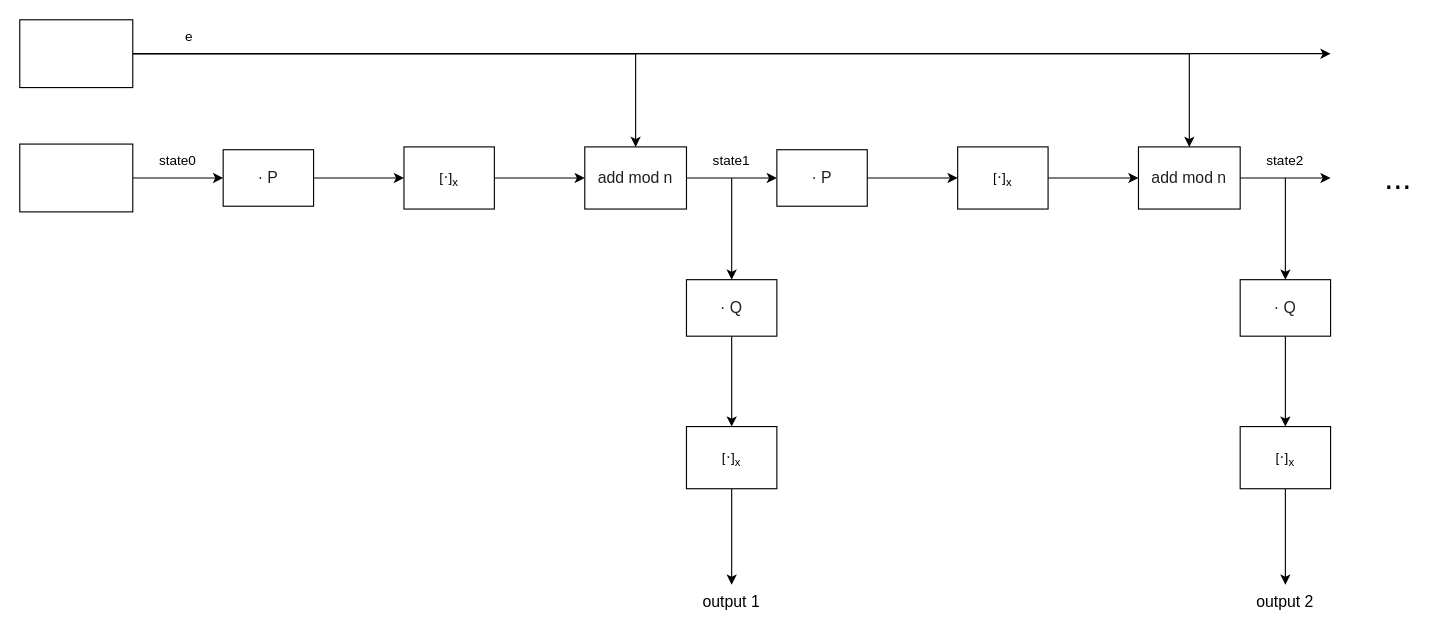
Image size: 1452x638. Some labels were removed from this diagram. The shapes that lost their labels are listed below. From the top down, each one's centre as x and y in pixels, then its label:
point (76, 53): Random number in [0, 2 20 )
point (76, 177): Random number in [1, n)
